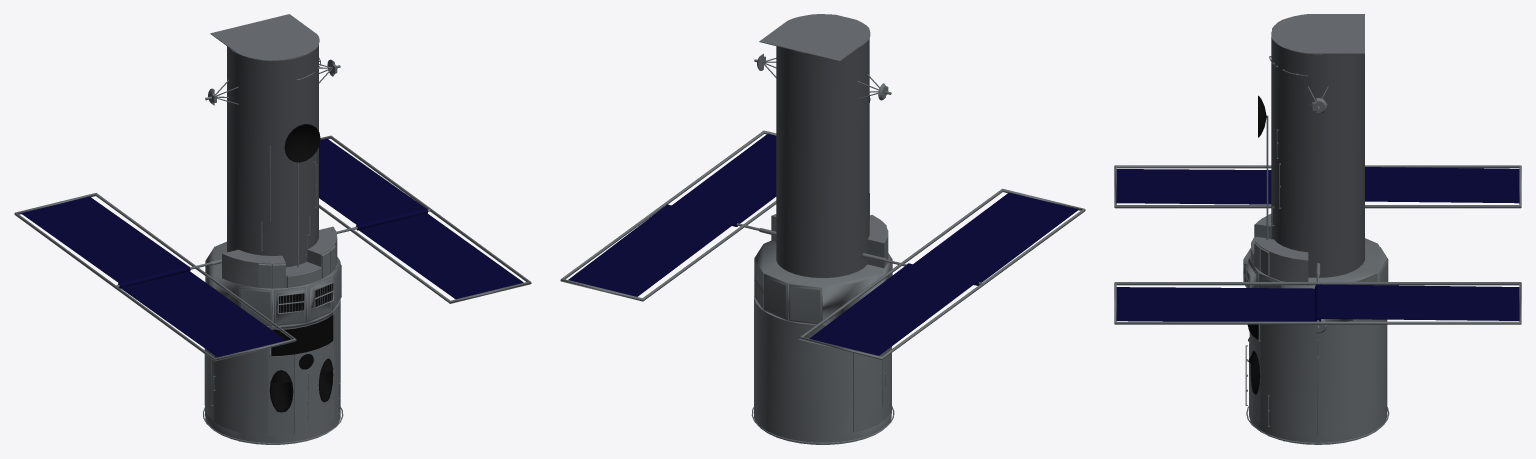
The model's file is hubble.obj.
3 views of the same model, side by side, from view 1: azimuth 30°, elevation 25°; view 2: azimuth 150°, elevation 25°; view 3: azimuth 270°, elevation 25° (orthographic).
Visible parts, largest first — view 1: hst; view 2: hst; view 3: hst.
Boxes of the visible parts, left/top/right/bottom form: hst: left=14, top=14, right=531, bottom=444; hst: left=560, top=14, right=1085, bottom=444; hst: left=1114, top=14, right=1521, bottom=444.
Bounding box in the file's own units: 11.51 × 13.2 × 12.59.
